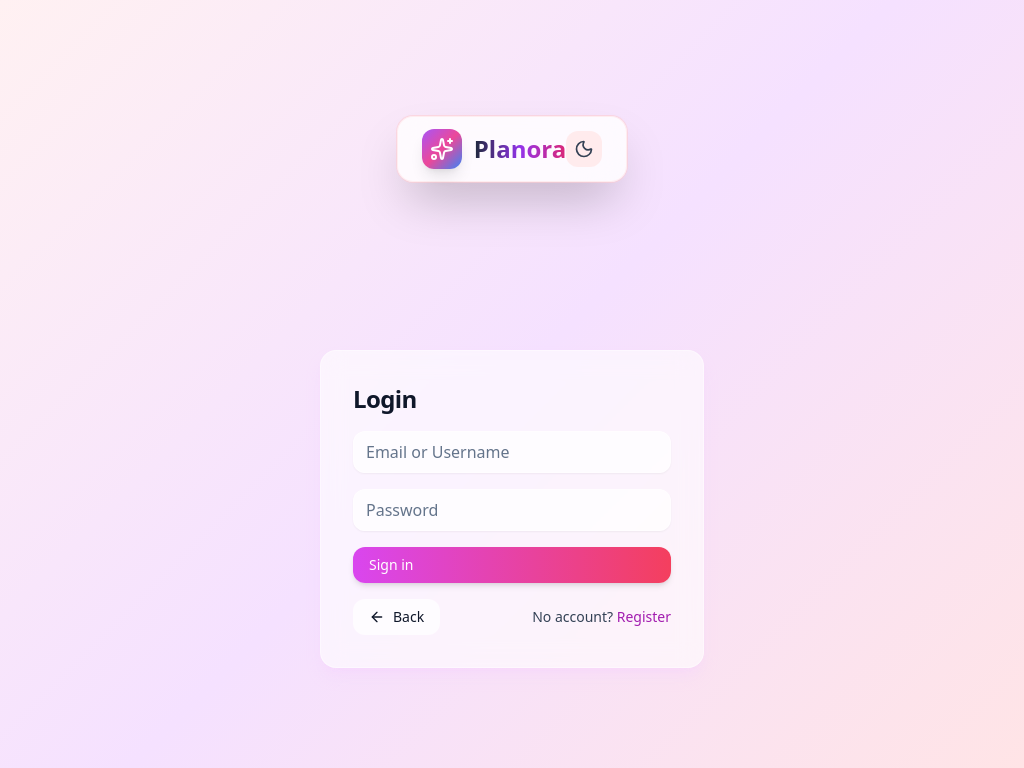
Test: Login page › shows error on failed login
Type "alice" into the field with placeholder "Email or Username".
click(512, 452); type("alice")  # box [353, 431, 671, 473]
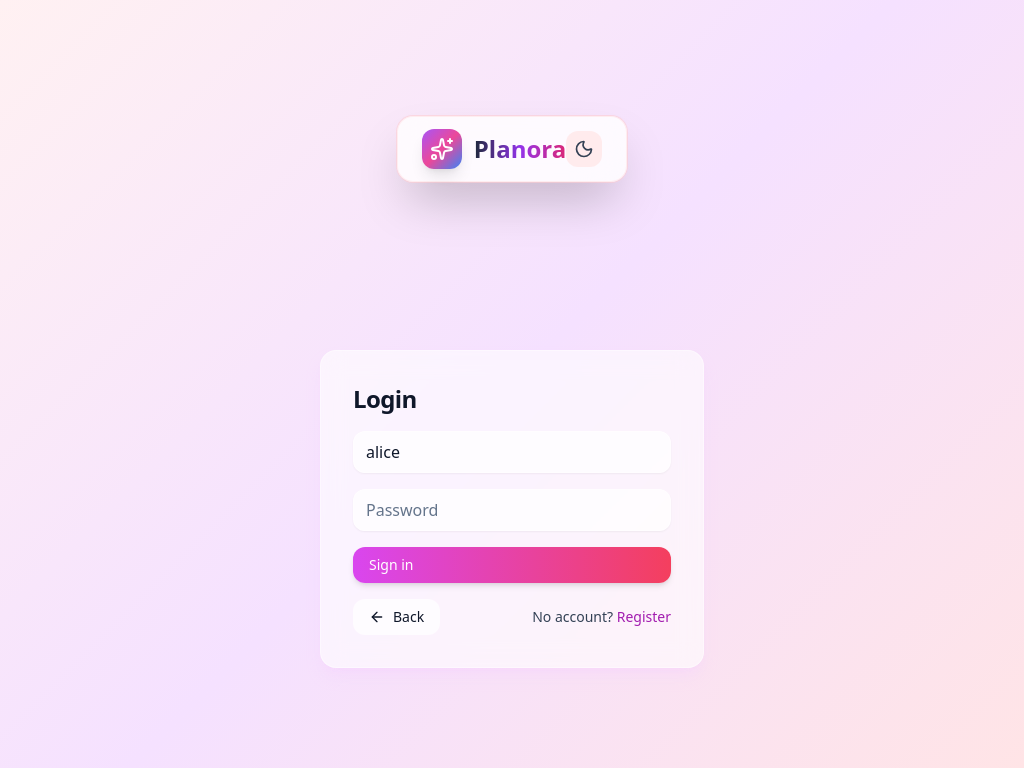
Type "wrong" into the password field with placeholder "Password".
click(512, 510); type("wrong")  # box [353, 489, 671, 531]
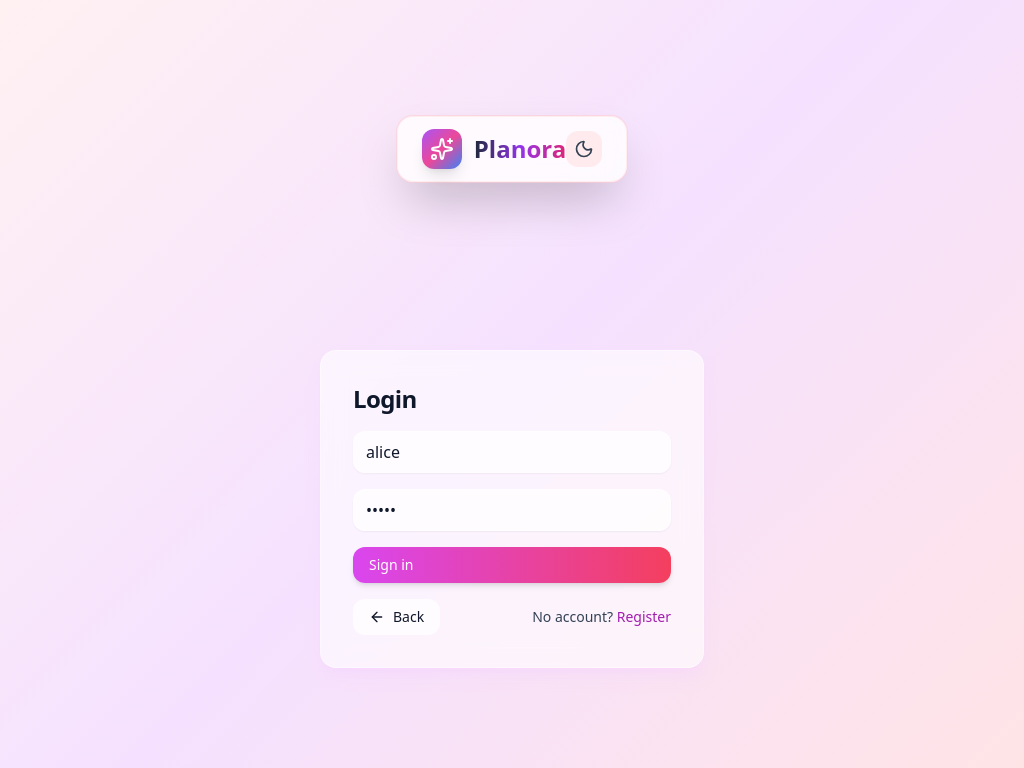
Click the button "Sign in".
click(391, 564)  # box [353, 547, 671, 583]
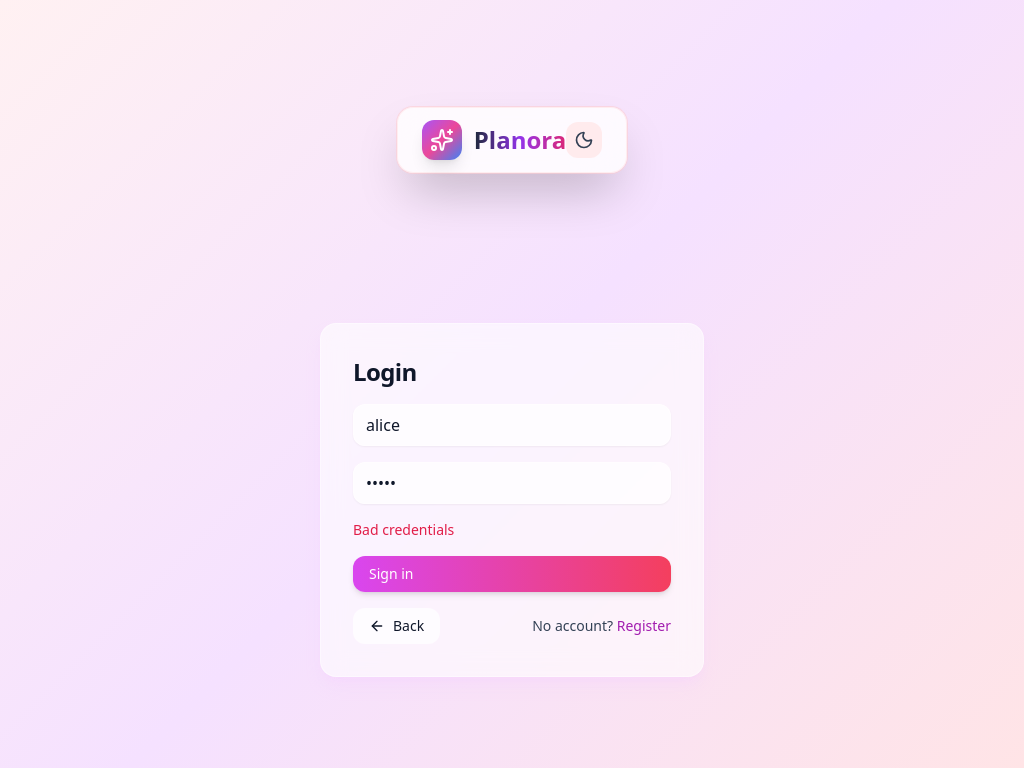
Check: the text "Bad credentials" is shown, box [353, 520, 454, 539]
